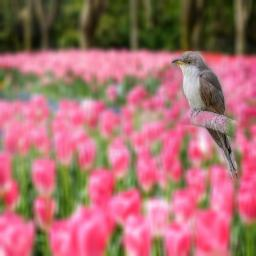Cuckoo: (171, 51, 239, 181)
